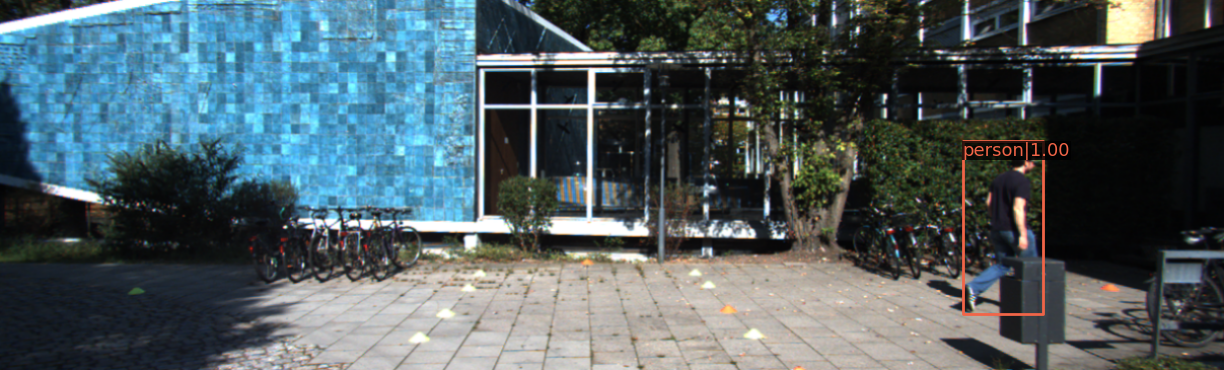person: (960, 144, 1057, 321)
